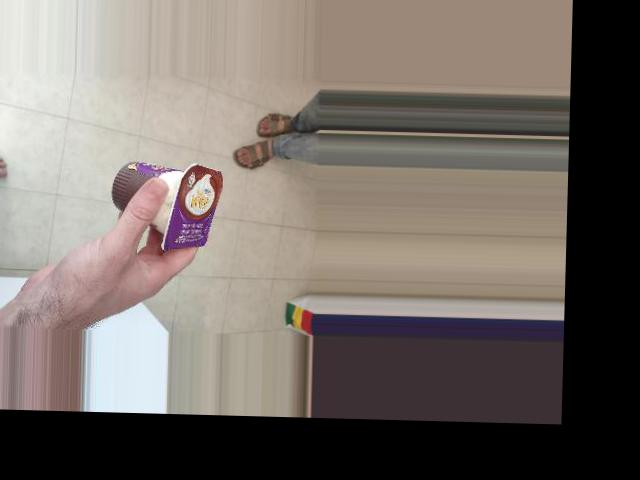milky: (141, 112, 228, 249)
